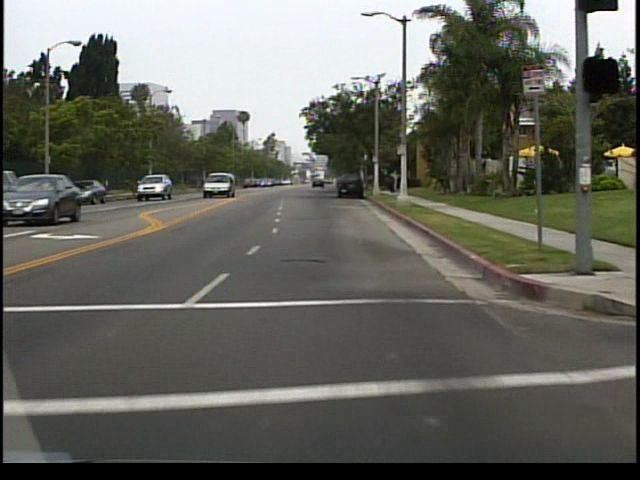person: (390, 170, 403, 196), (389, 174, 394, 193)
